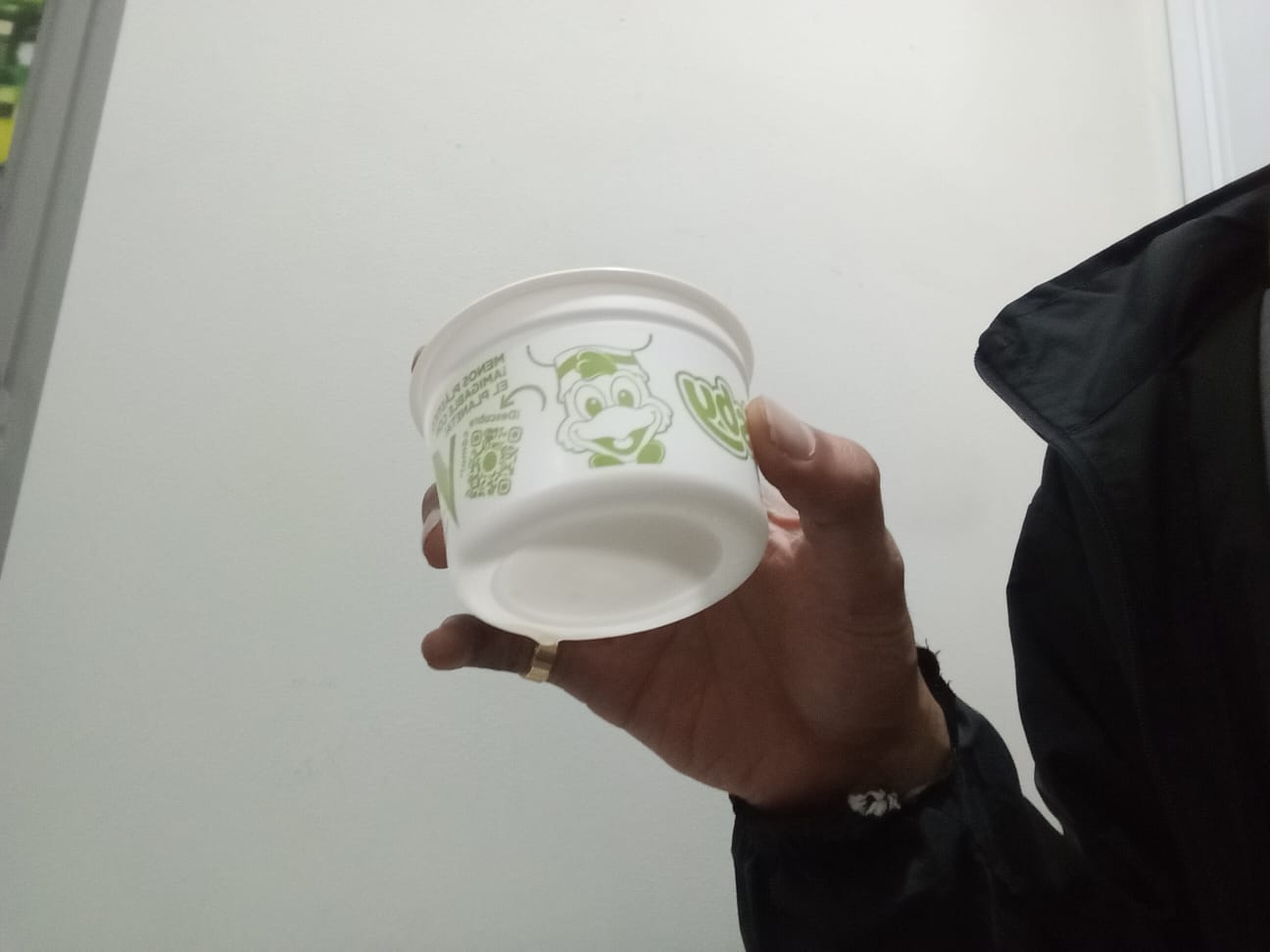Plastico: (409, 268, 767, 639)
